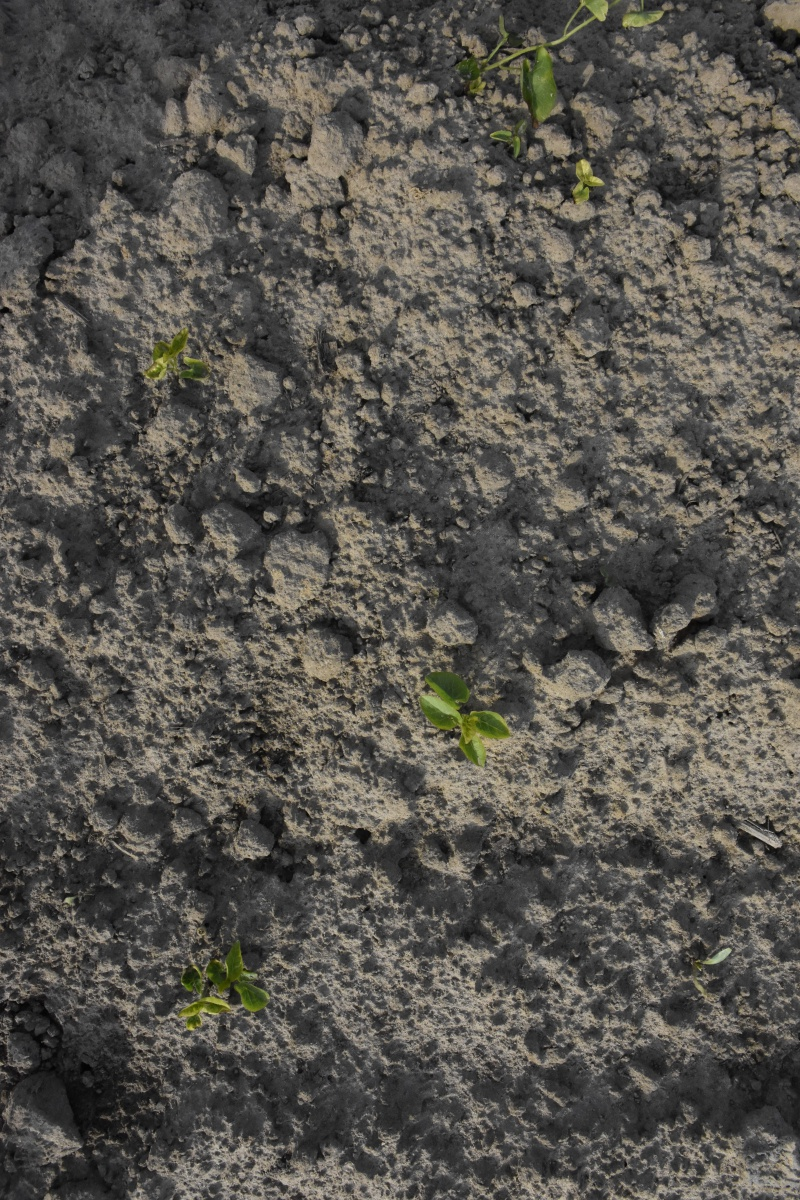field bindweed: (459, 1, 638, 146), (411, 668, 523, 776), (170, 944, 277, 1035), (127, 319, 210, 411)
